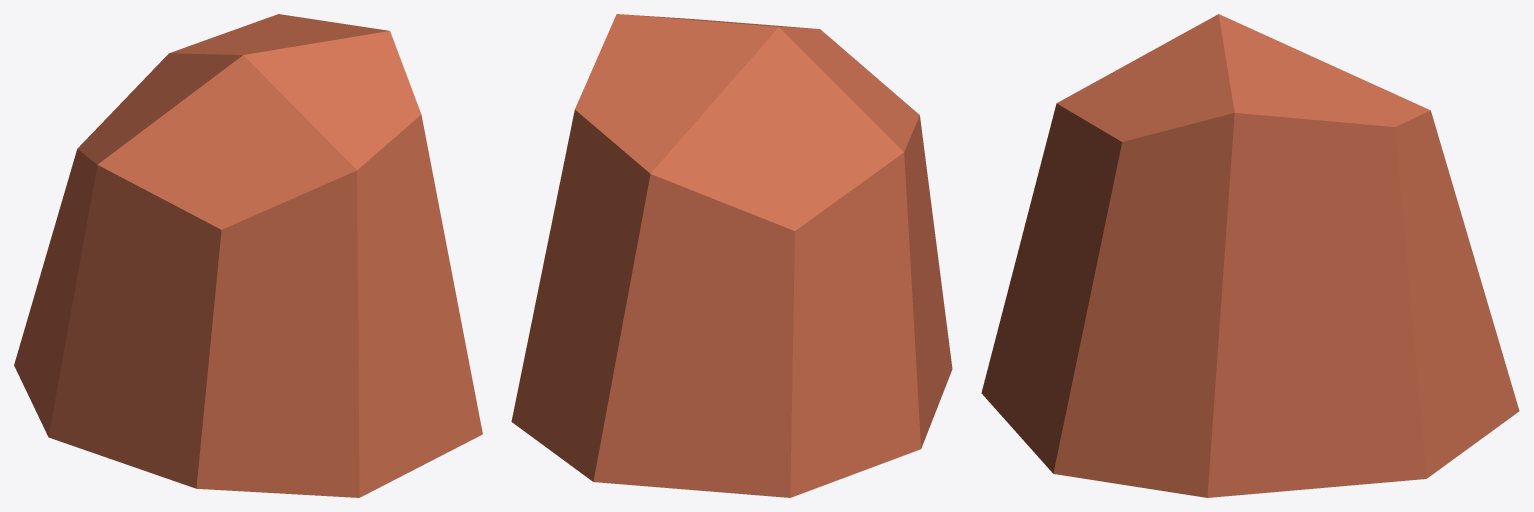
Rendered from Rock_Mesa_Medium_12.fbx.
3 renders of one model, left to right at view 1: azimuth 30°, elevation 25°; view 2: azimuth 150°, elevation 25°; view 3: azimuth 270°, elevation 25°, orthographic. The views are drawn at different scales.
Visible parts, largest first — view 1: Rock; view 2: Rock; view 3: Rock.
Part boxes in pixels (x1=…): Rock: x1=14, y1=14, x2=482, y2=497; Rock: x1=511, y1=14, x2=952, y2=497; Rock: x1=981, y1=14, x2=1519, y2=497.
Size of the model in its own units: 54.36 by 49.81 by 64.05.
